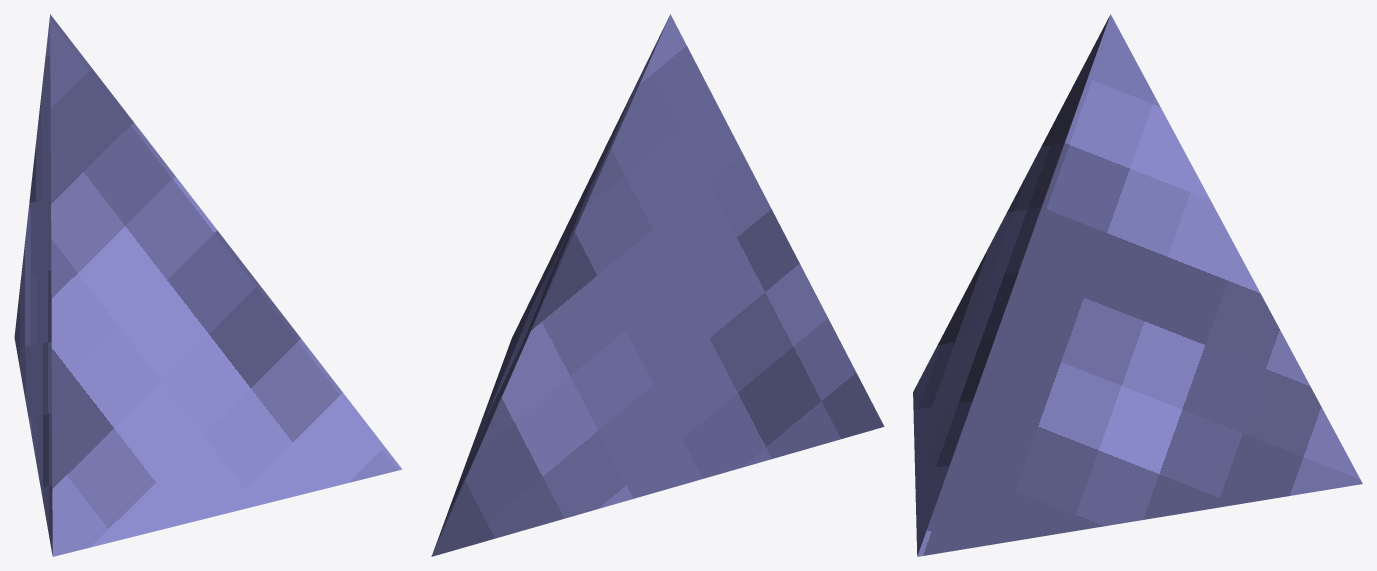
The model's file is Rock_model_LOW_POLY_0.fbx.
3 renders of one model, left to right at view 1: azimuth 30°, elevation 25°; view 2: azimuth 150°, elevation 25°; view 3: azimuth 270°, elevation 25°, orthographic. The views are drawn at different scales.
Parts seen in each view (by area): view 1: Rock; view 2: Rock; view 3: Rock.
Part boxes in pixels (x1=…): Rock: x1=14, y1=14, x2=402, y2=556; Rock: x1=431, y1=14, x2=884, y2=556; Rock: x1=913, y1=14, x2=1362, y2=556.
Size of the model in its own units: 273 by 237 by 285.
Materials: 1 (1 with a texture image).
